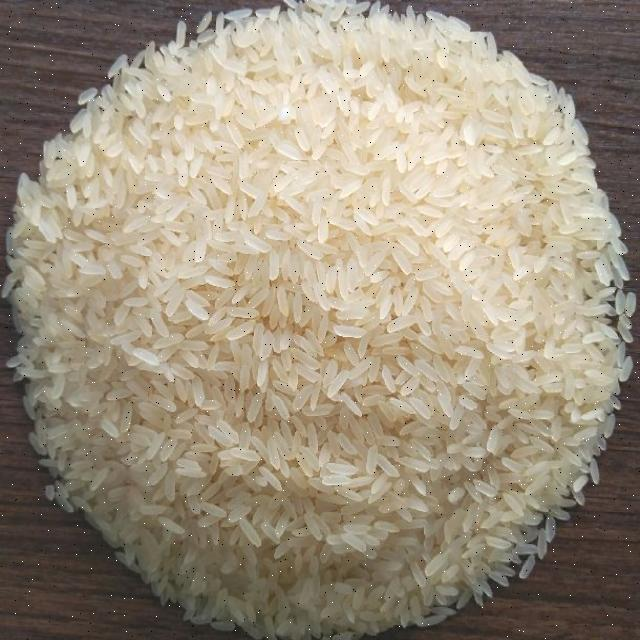Rice: (24, 88, 640, 637)
